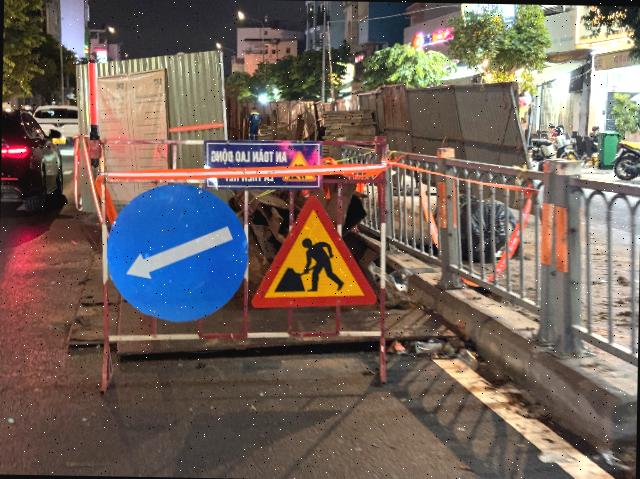cong-truong-dang-thi-cong: (250, 194, 380, 310)
huong-phai-di-vong-chuong-ngai-vat: (105, 181, 250, 324)
